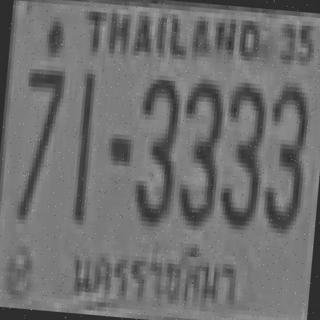N01: (69, 70, 96, 218)
N03: (130, 74, 181, 223), (260, 80, 308, 230), (174, 75, 222, 225), (217, 77, 265, 226)
N07: (14, 64, 63, 217), (18, 64, 63, 169)
P30: (62, 230, 242, 316)
